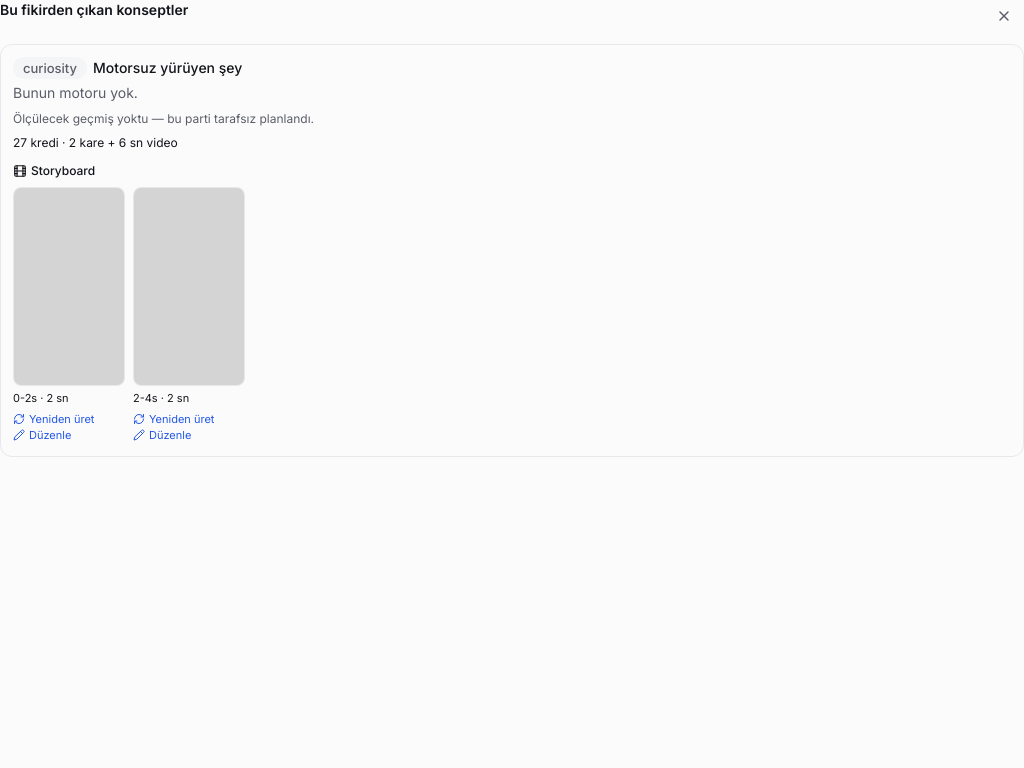
Test case: BatchDetail — the storyboard a reviewer looks at › directing a beat by hand — the frame text and the motion text › opening another beat starts from THAT beat's texts, not the previous one's edits
Click the button with aria-label "Düzenle 0-2s" at (42, 435), box 13,427 -> 71,444
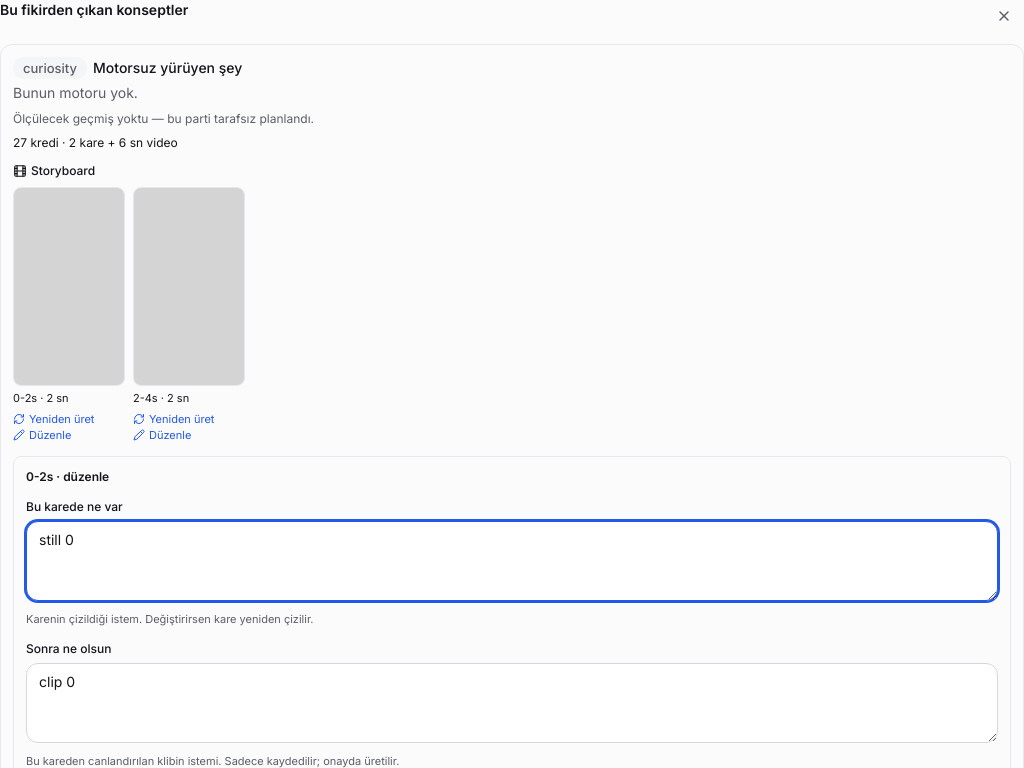
Type " with a red bicycle" into the text box labelled "Bu karede ne var" at (512, 561), box 26,521 -> 998,601
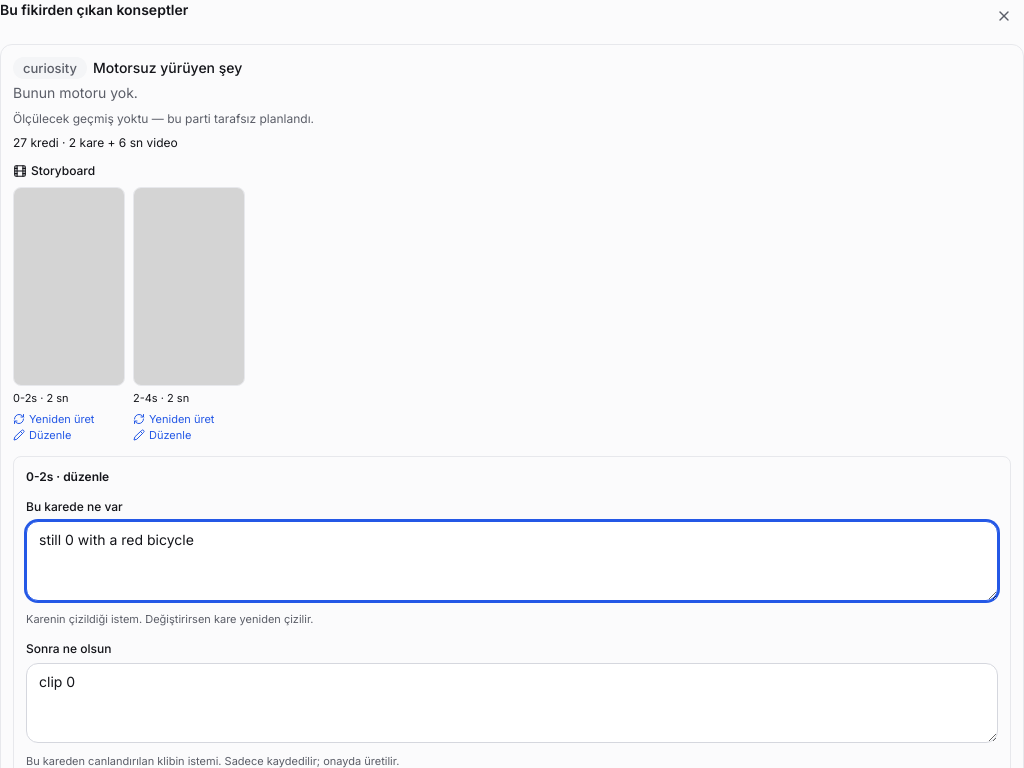
Click the button with aria-label "Düzenle 2-4s" at (162, 435), box 133,427 -> 191,444
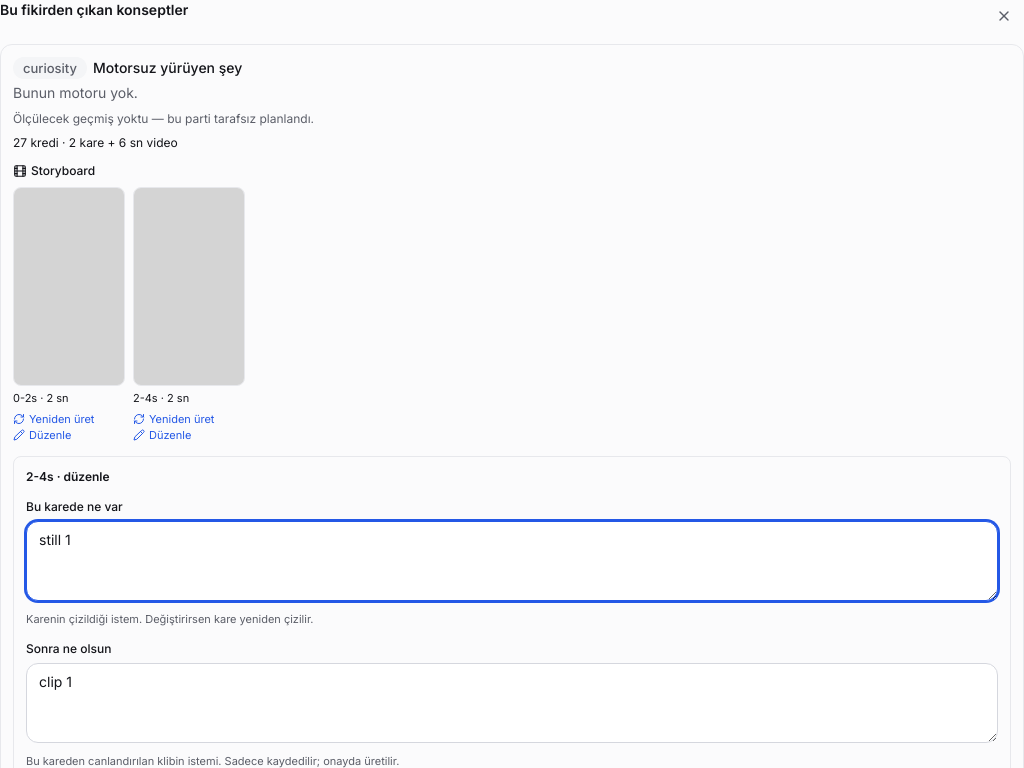
Check: the heading "2-4s · düzenle" is shown, box 26,469 -> 110,484
Check: the text box labelled "Bu karede ne var" holds "still 1", box 26,521 -> 998,601
Check: the text box labelled "Sonra ne olsun" holds "clip 1", box 26,663 -> 998,743
